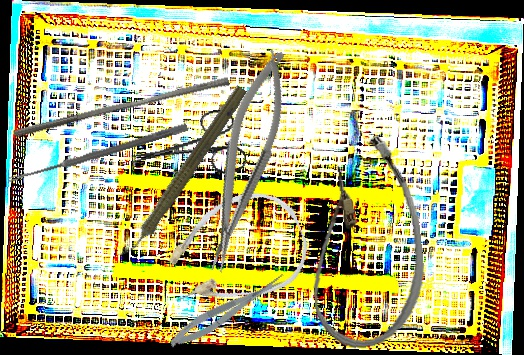Cannula: (298, 131, 432, 353), (149, 178, 319, 326)
Handpiece: (114, 80, 251, 266)
Iris Scissors: (123, 105, 249, 194)
Micro Scissor: (165, 270, 291, 353)
Needle Holder: (187, 44, 303, 277)
Pusher: (12, 68, 231, 147)
Surgical Spoon: (7, 122, 189, 185)
